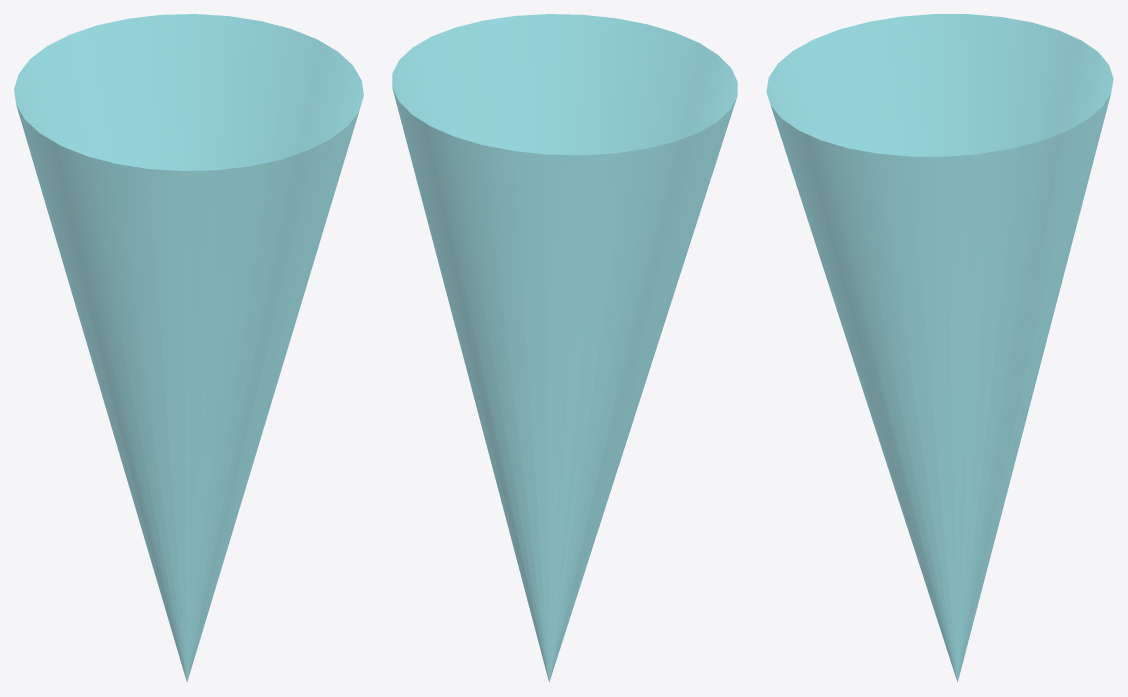
Rendered from morse code hologram puzzle hologram projection from base to show full screen of hologram.fbx.
3 renders of one model, left to right at view 1: azimuth 30°, elevation 25°; view 2: azimuth 150°, elevation 25°; view 3: azimuth 270°, elevation 25°, orthographic.
Visible parts, largest first — view 1: ea9c37d9-54d7-421f-b541-5c0eac7fc47b; view 2: ea9c37d9-54d7-421f-b541-5c0eac7fc47b; view 3: ea9c37d9-54d7-421f-b541-5c0eac7fc47b.
Part boxes in pixels (left/top/right/bottom): ea9c37d9-54d7-421f-b541-5c0eac7fc47b: left=14, top=14, right=363, bottom=682; ea9c37d9-54d7-421f-b541-5c0eac7fc47b: left=392, top=14, right=737, bottom=682; ea9c37d9-54d7-421f-b541-5c0eac7fc47b: left=766, top=14, right=1113, bottom=682.
Bounding box in the file's own units: 26273 × 49979 × 26265.
